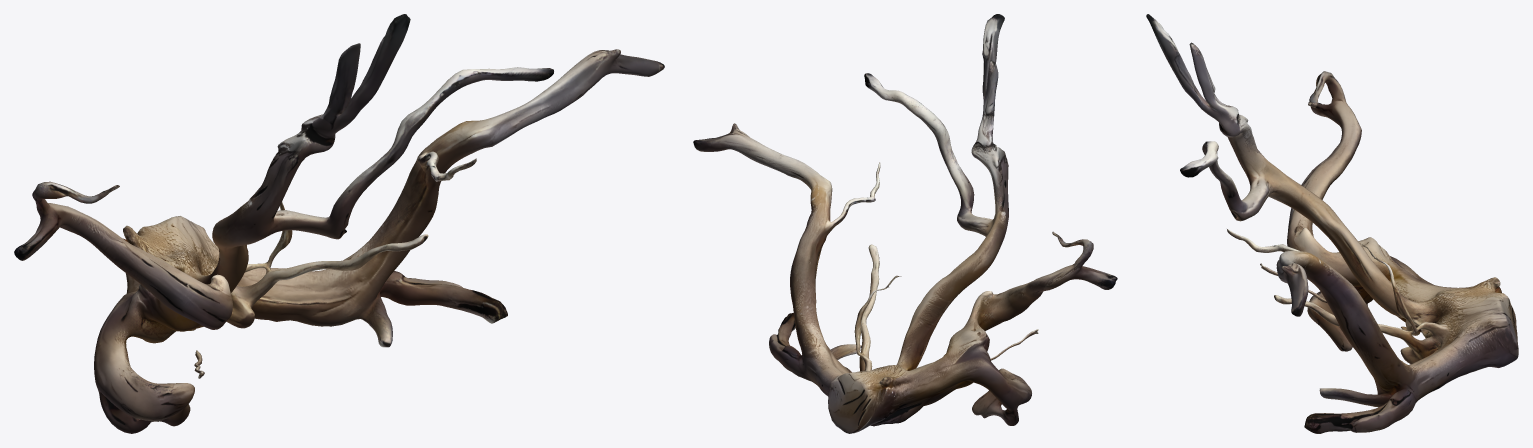
3 views of the same model, side by side, from view 1: azimuth 30°, elevation 25°; view 2: azimuth 150°, elevation 25°; view 3: azimuth 270°, elevation 25° (orthographic). The views are drawn at different scales.
Visible parts, largest first — view 1: model; view 2: model; view 3: model.
Part boxes in pixels (bbox=[...]): model: bbox=[14, 14, 664, 433]; model: bbox=[693, 14, 1117, 433]; model: bbox=[1146, 14, 1518, 433].
Size of the model in its own units: 1.9 by 1.36 by 1.23.
1 material, 1 textured.
